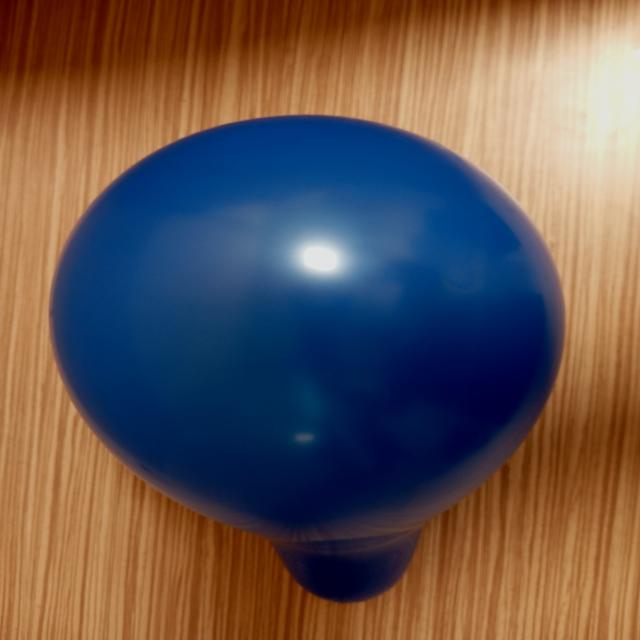balloon: (50, 116, 564, 602)
